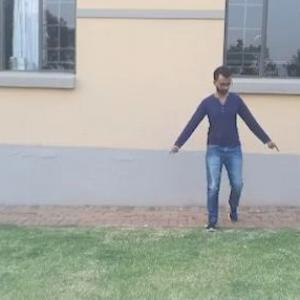land: (168, 66, 281, 237)
